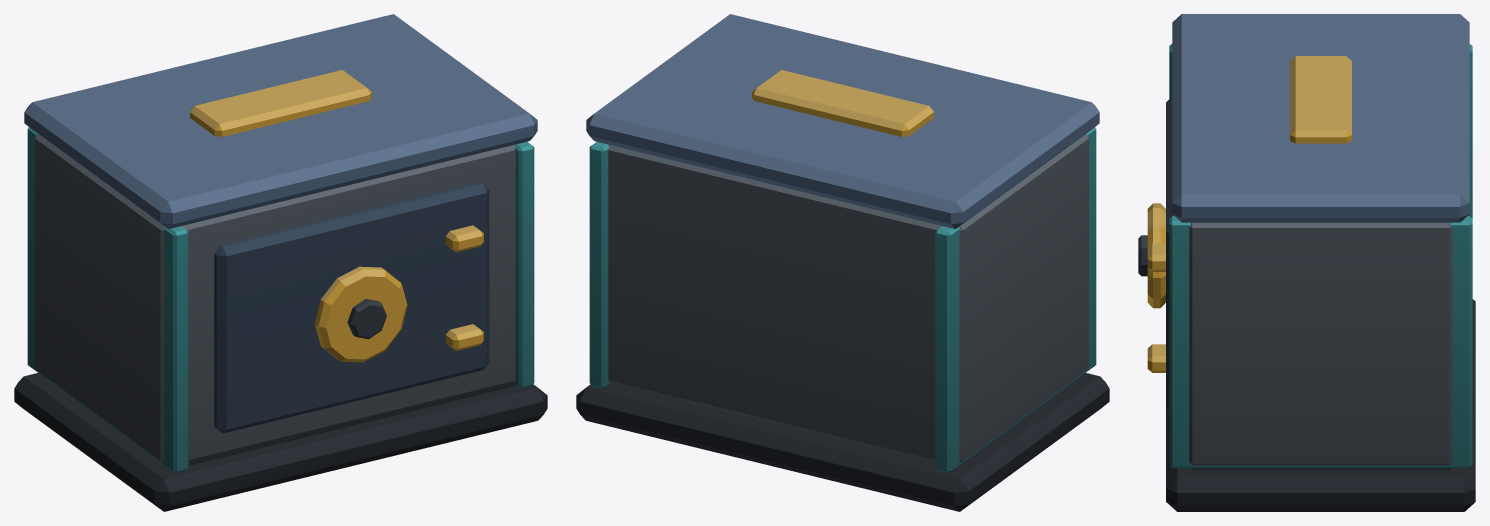
Rendered from vault.glb.
3 renders of one model, left to right at view 1: azimuth 30°, elevation 25°; view 2: azimuth 150°, elevation 25°; view 3: azimuth 270°, elevation 25°, orthographic. The views are drawn at different scales.
Visible parts, largest first — view 1: mesh_vault; view 2: mesh_vault; view 3: mesh_vault.
Boxes of the visible parts, bbox=[...] form: mesh_vault: bbox=[14, 14, 547, 511]; mesh_vault: bbox=[576, 14, 1109, 511]; mesh_vault: bbox=[1138, 14, 1475, 511].
Size of the model in its own units: 1.5 by 1.16 by 1.09.
